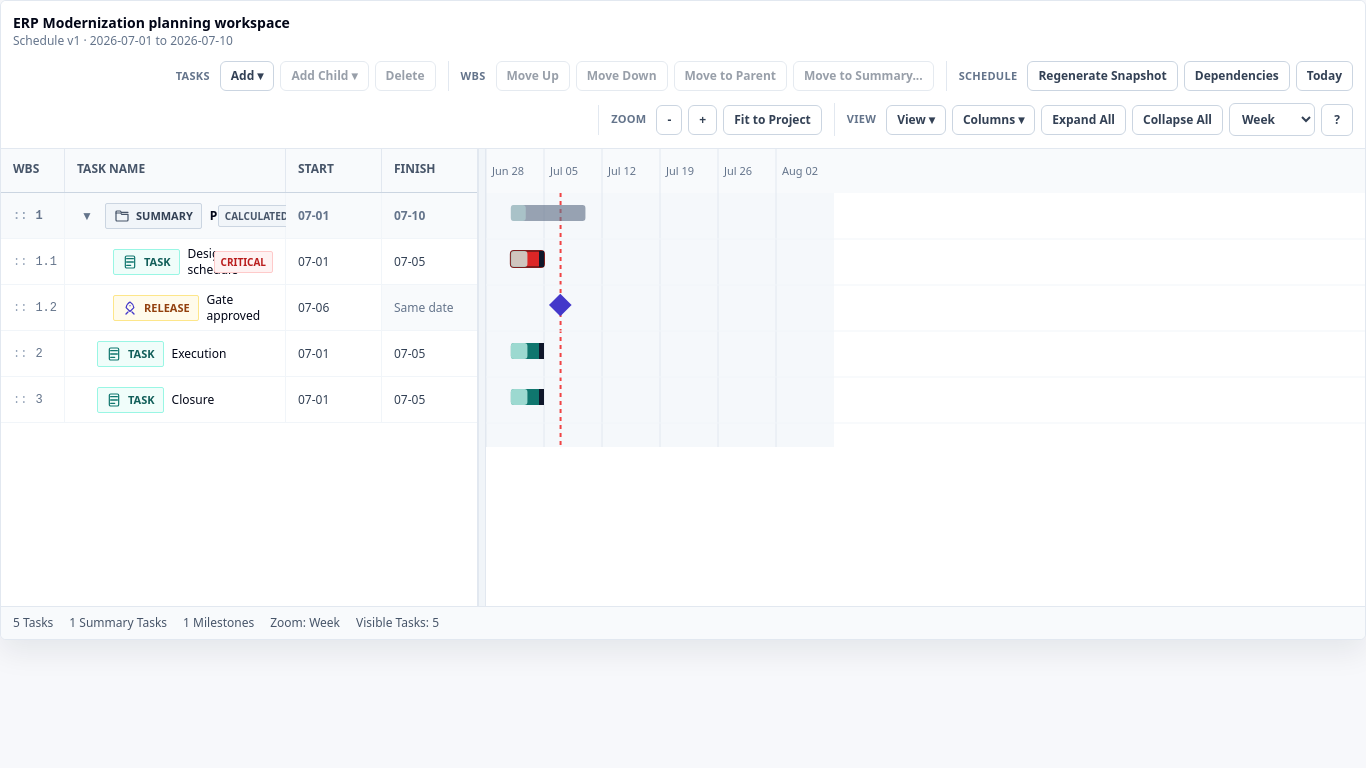
Scenario: PlanningWorkspace › adds a child as the last child and expands the parent
What coordinates should you click on to do the following:
click the row named "1 Planning"
I would click on:
 (240, 216)
Its box is [1, 193, 478, 239].
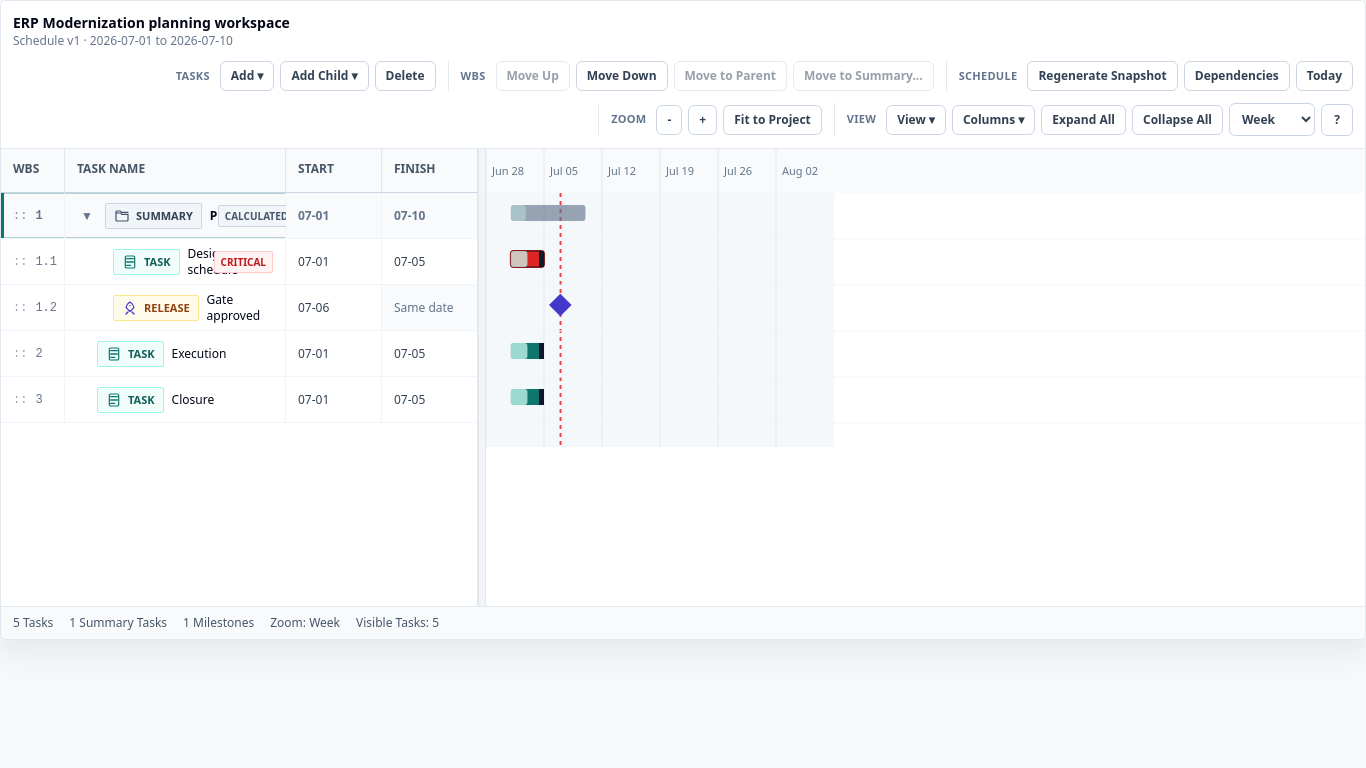
What coordinates should you click on to do the following:
click the button named "collapse planning"
I would click on:
 (87, 216)
Its box is [77, 206, 97, 226].
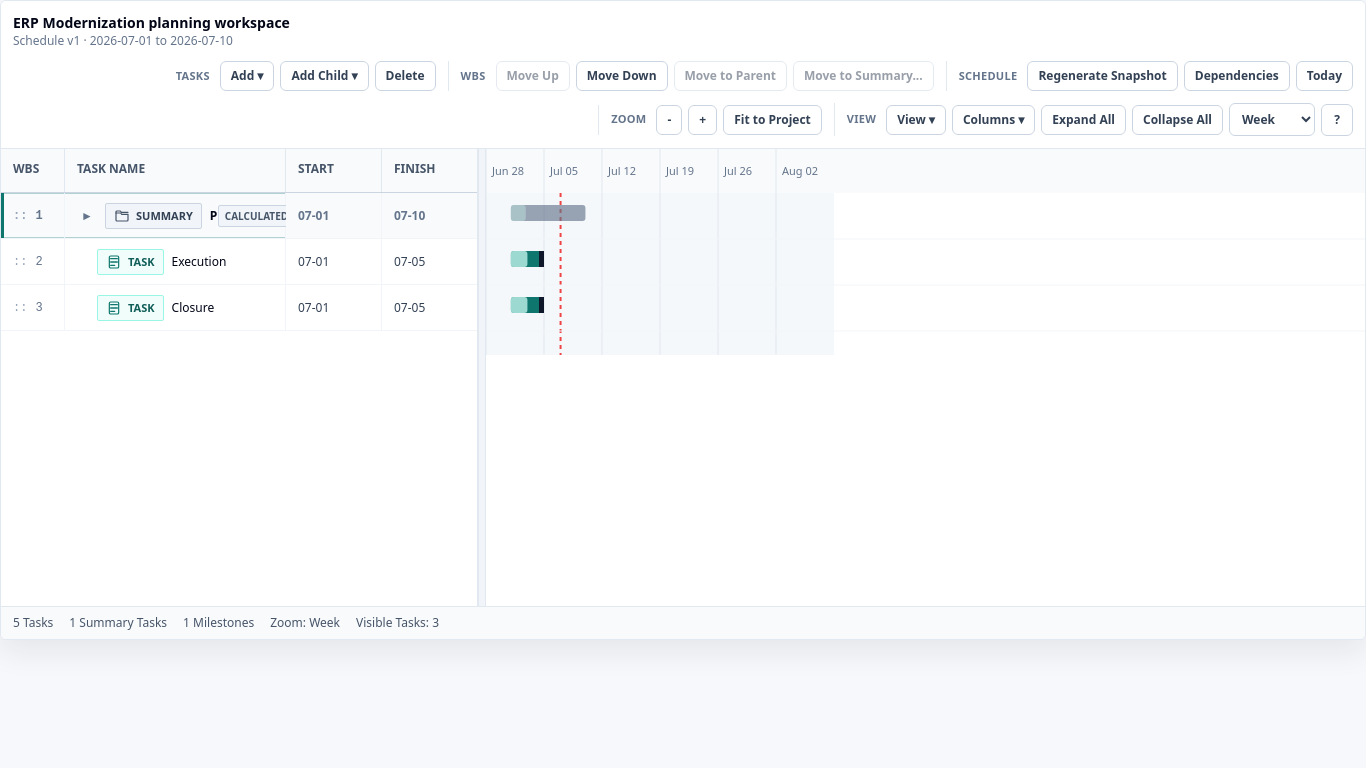
What coordinates should you click on to do the following:
click the button "Add Child ▾"
I would click on:
 (324, 76)
Its box is [280, 61, 369, 91].
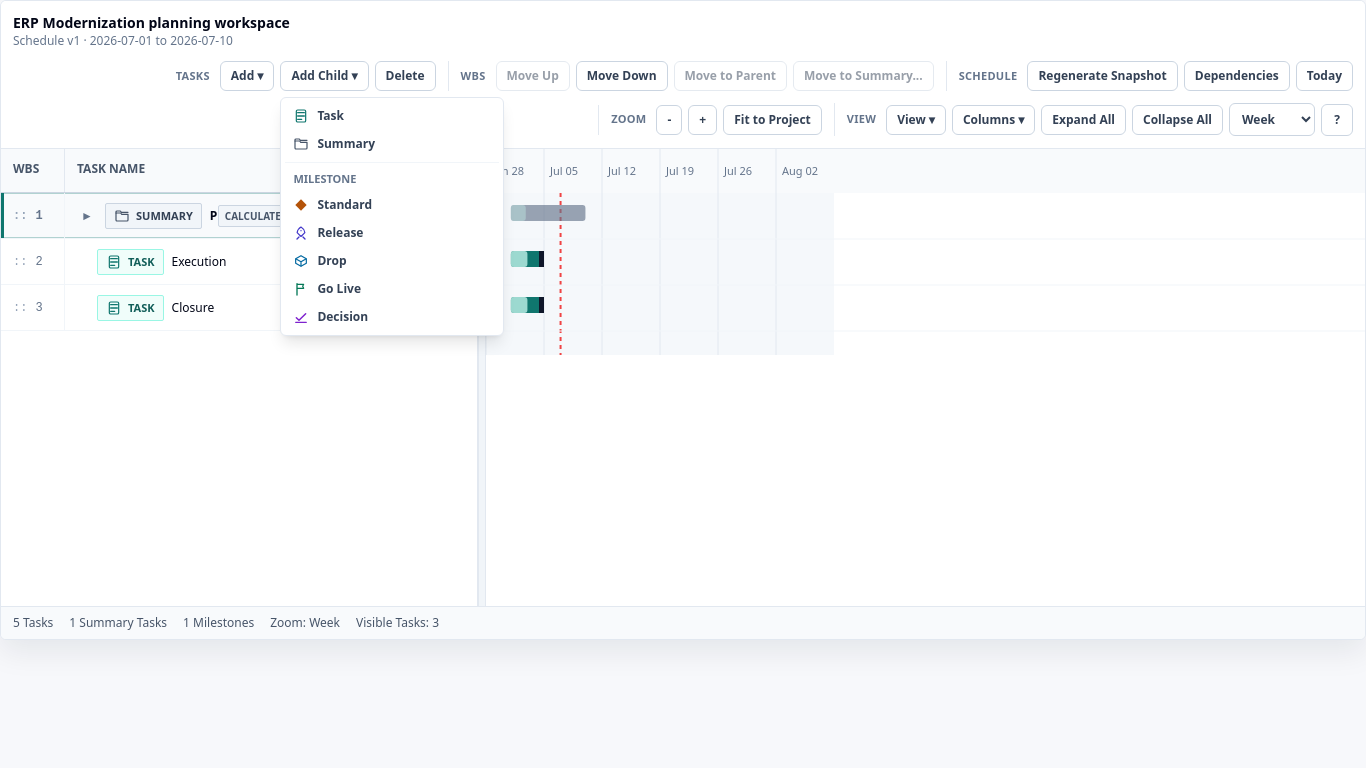
What coordinates should you click on to do the following:
click the menu item "Task"
I would click on:
 (392, 116)
Its box is [285, 102, 499, 130].
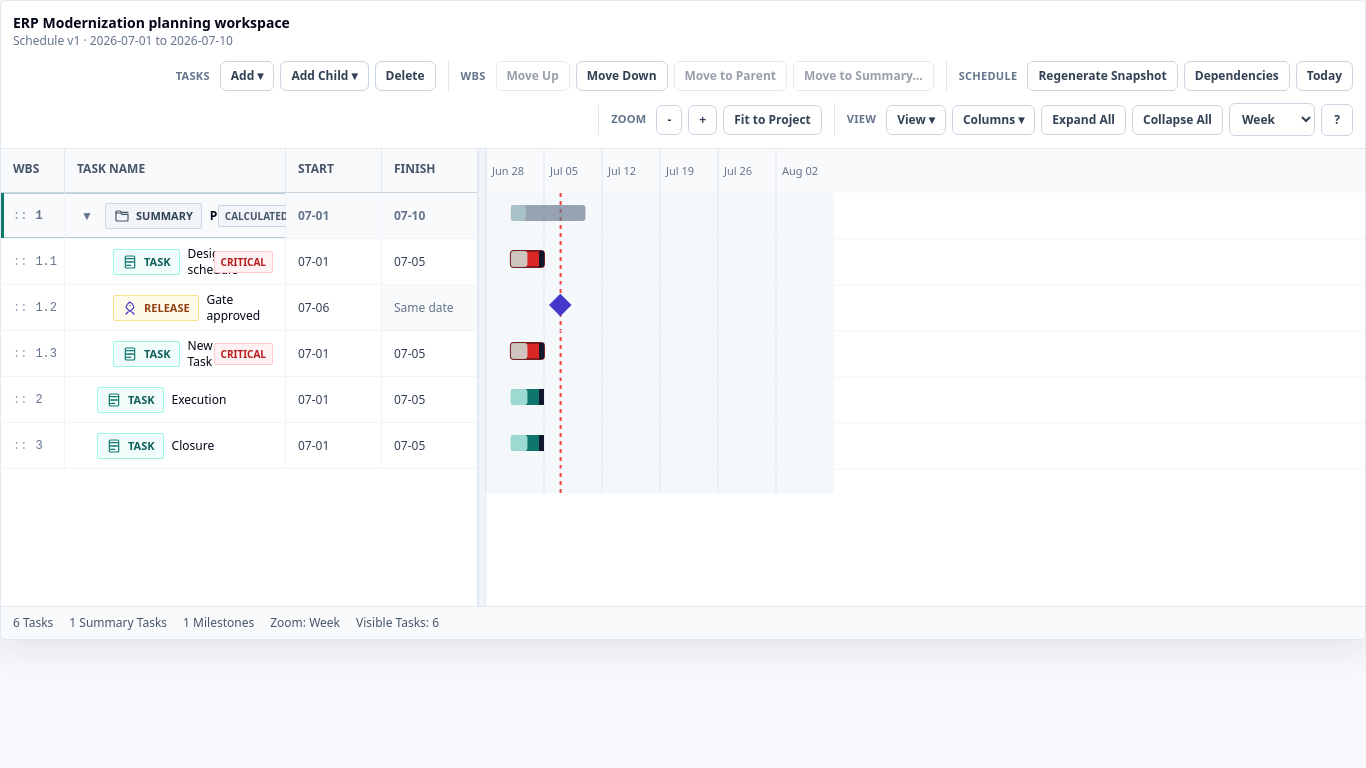
expect the row named "1.3 New Task" is shown: met, box [1, 331, 478, 377]
